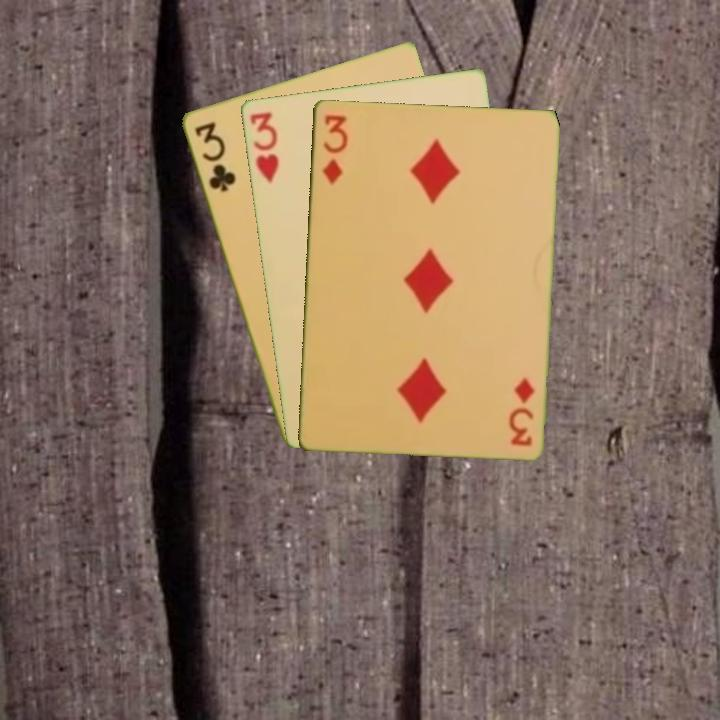3c: (190, 118, 238, 195)
3d: (319, 110, 350, 187), (506, 373, 537, 448)
3h: (246, 108, 282, 186)
